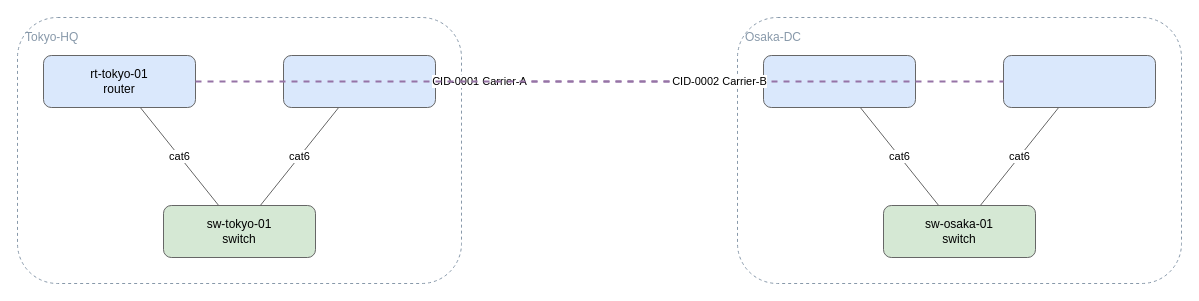
Image size: 1199x301. Some labels were removed from this diagram. Here are the shapes that lost their labels. From the top down, the centre of each, then its label:
pixel 359 81: rt-tokyo-02 router
pixel 839 81: rt-osaka-01 router
pixel 1079 81: rt-osaka-02 router
